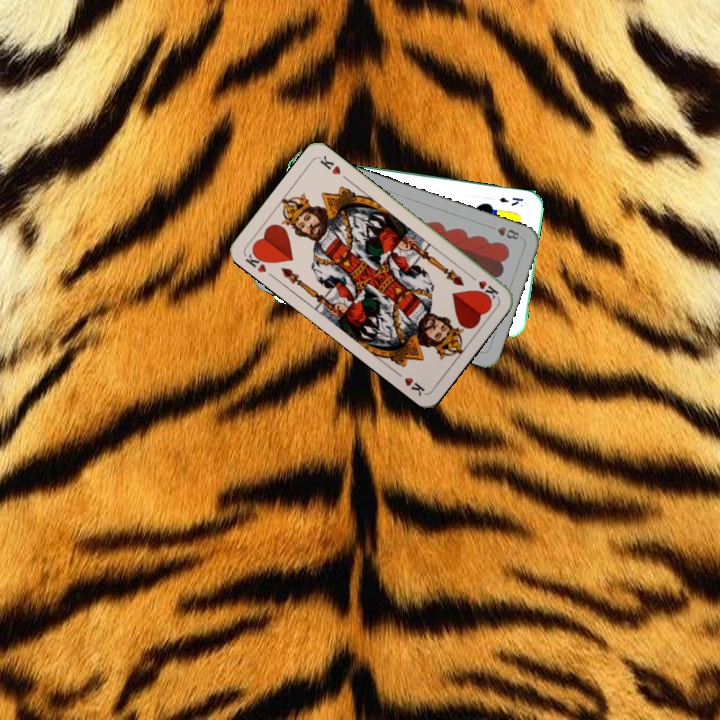EK: (495, 193, 525, 208)
H8: (485, 222, 522, 242)
HK: (465, 271, 501, 303), (241, 246, 272, 275)
